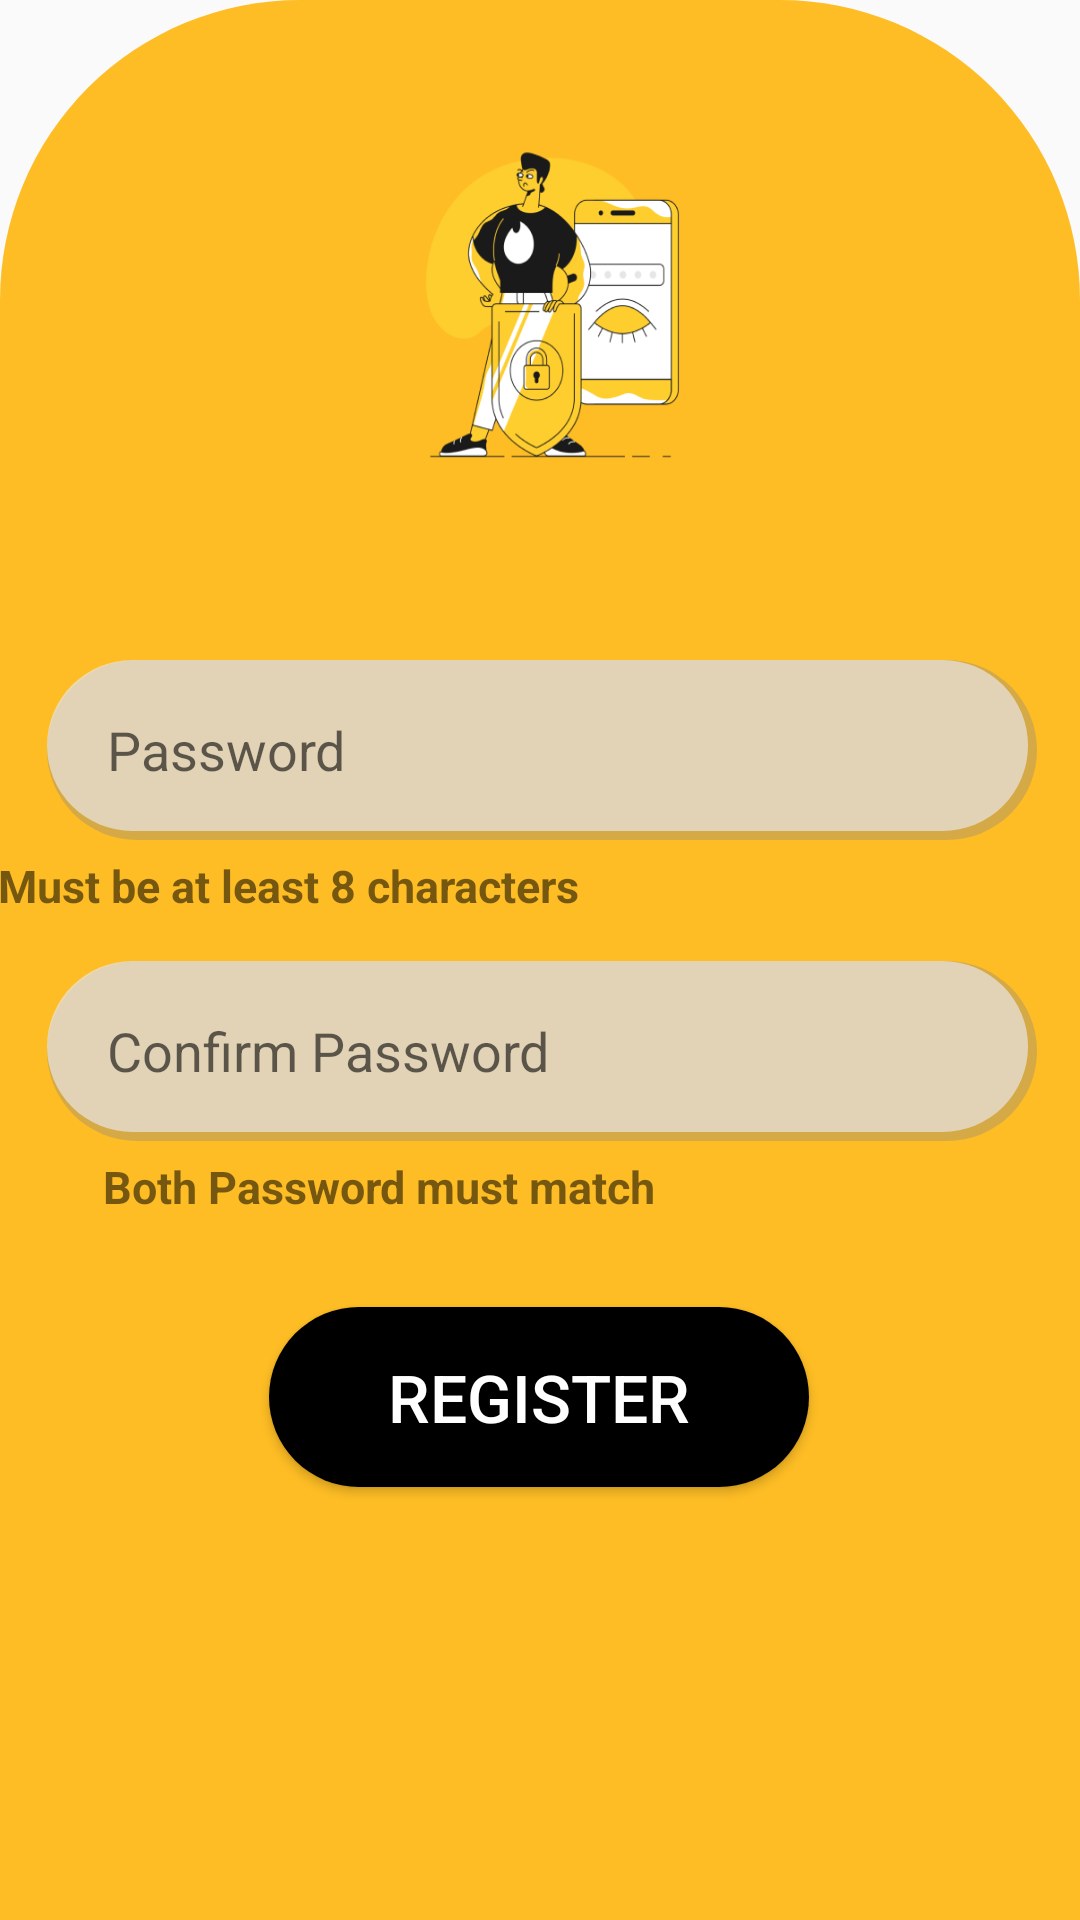

Point at icon controls on the screen. Image size 1080px×1920px, points as point (x, y).
password: point (552, 305)
